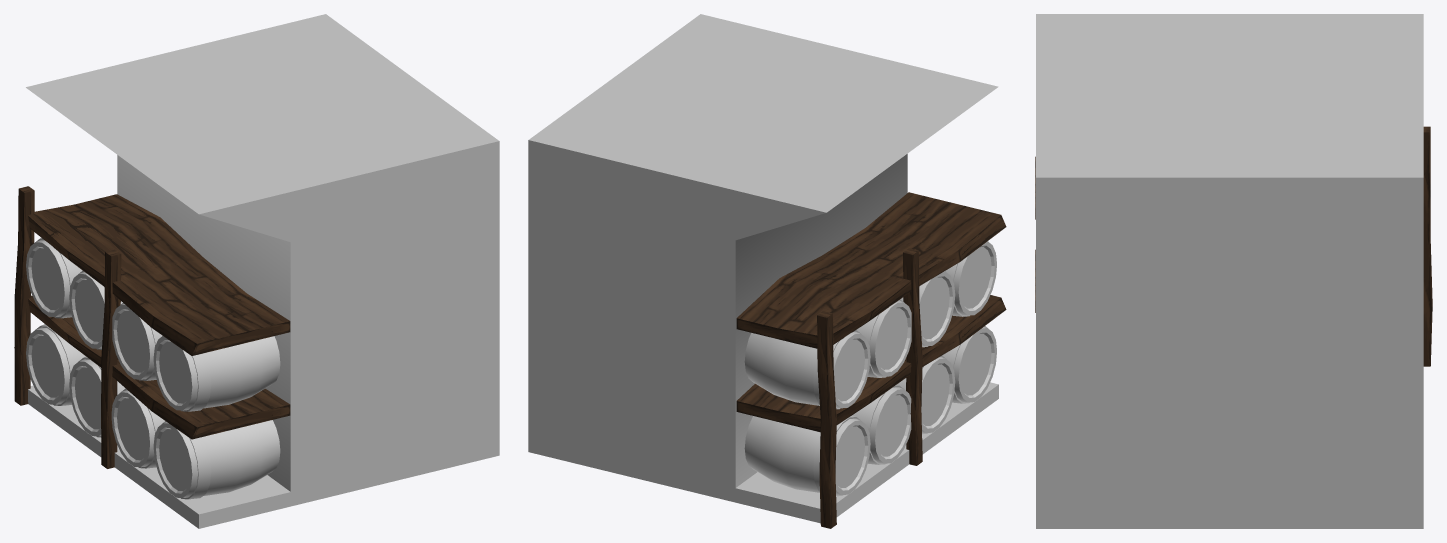
Rendered from wall_barrels.FBX.
3 renders of one model, left to right at view 1: azimuth 30°, elevation 25°; view 2: azimuth 150°, elevation 25°; view 3: azimuth 270°, elevation 25°, orthographic. The views are drawn at different scales.
Visible parts, largest first — view 1: wall with barrels, Box013, Cylinder009, Cylinder008, Box008, Box007, Cylinder013, Cylinder005, Box014, Cylinder014, Cylinder011, Cylinder012 (+1 smaller); view 2: wall with barrels, Box013, Cylinder013, Cylinder005, Box008, Box007, Cylinder002, Box014, Cylinder012, Cylinder009, Cylinder008, Cylinder014 (+1 smaller); view 3: wall with barrels, Box007.
Boxes of the visible parts, left/top/right/bottom form: wall with barrels: left=26, top=14, right=499, bottom=528; Box013: left=28, top=194, right=290, bottom=355; Cylinder009: left=153, top=420, right=280, bottom=499; Cylinder008: left=153, top=336, right=280, bottom=411; Box008: left=28, top=295, right=290, bottom=439; Box007: left=14, top=186, right=34, bottom=405; Cylinder013: left=26, top=324, right=85, bottom=405; Cylinder005: left=26, top=238, right=82, bottom=318; Box014: left=101, top=249, right=121, bottom=468; Cylinder014: left=111, top=388, right=164, bottom=468; Cylinder011: left=112, top=303, right=162, bottom=380; Cylinder012: left=69, top=270, right=122, bottom=349; wall with barrels: left=528, top=14, right=998, bottom=523; Box013: left=736, top=192, right=1006, bottom=348; Cylinder013: left=744, top=415, right=870, bottom=496; Cylinder005: left=744, top=330, right=870, bottom=409; Box008: left=736, top=295, right=1006, bottom=432; Box007: left=817, top=311, right=836, bottom=528; Cylinder002: left=852, top=384, right=911, bottom=464; Box014: left=903, top=248, right=922, bottom=465; Cylinder012: left=856, top=299, right=911, bottom=377; Cylinder009: left=942, top=326, right=996, bottom=403; Cylinder008: left=945, top=241, right=996, bottom=316; Cylinder014: left=897, top=355, right=955, bottom=434; wall with barrels: left=1036, top=14, right=1423, bottom=528; Box007: left=1423, top=126, right=1432, bottom=366.
Size of the model in its own units: 26.02 by 25.4 by 26.04.
